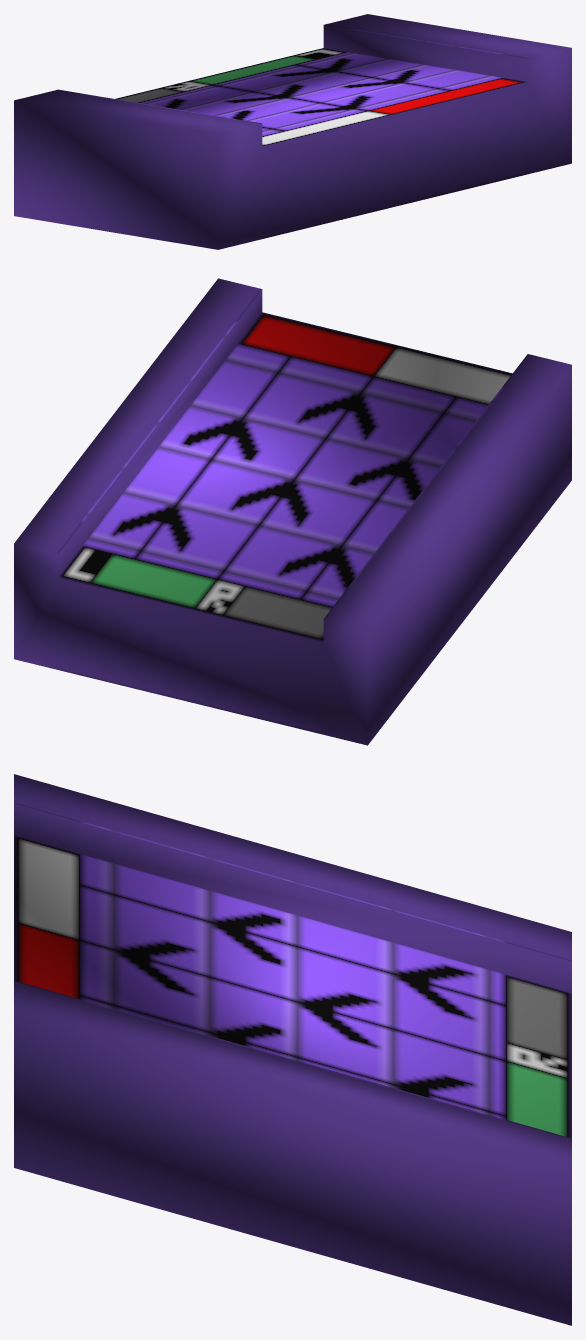
File: front_up.dae
3 views of the same model, one above another, from view 1: azimuth 30°, elevation 25°; view 2: azimuth 150°, elevation 25°; view 3: azimuth 270°, elevation 25° (orthographic). The views are drawn at different scales.
Parts seen in each view (by area): view 1: FrontUp; view 2: FrontUp; view 3: FrontUp.
Boxes of the visible parts, x1,y1,x2,y2 form: FrontUp: [14, 14, 571, 249]; FrontUp: [14, 278, 571, 745]; FrontUp: [14, 774, 571, 1325].
Size of the model in its own units: 4 by 4 by 2.5.
1 material, 1 textured.
